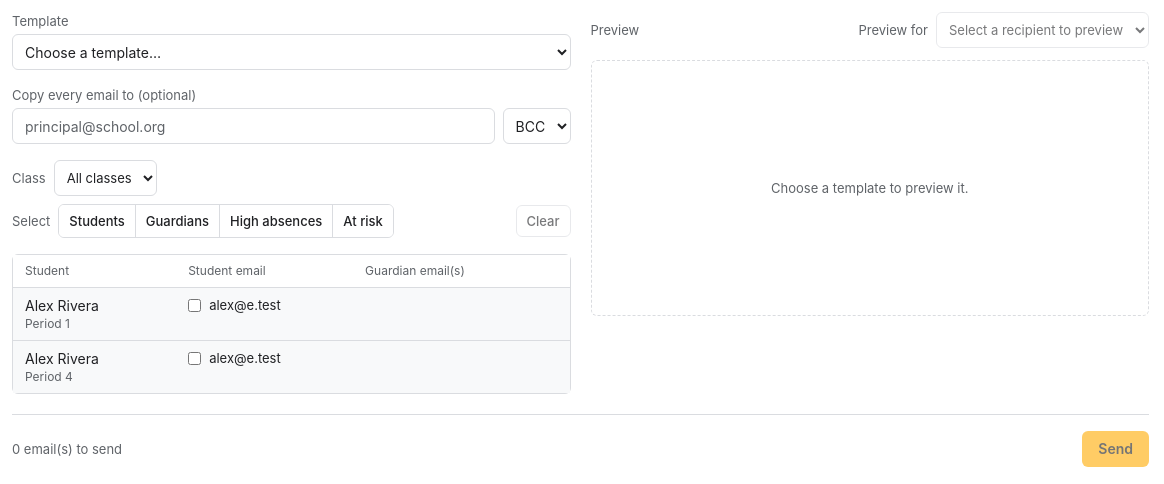
it: ComposeView › At risk flags only the course the student is at risk in
Expected: the checkbox named "Student email for Alex Rivera in Period 4" is shown, [188,352,201,364]
Click the button "At risk" at (363, 221), box [333,205,393,237]
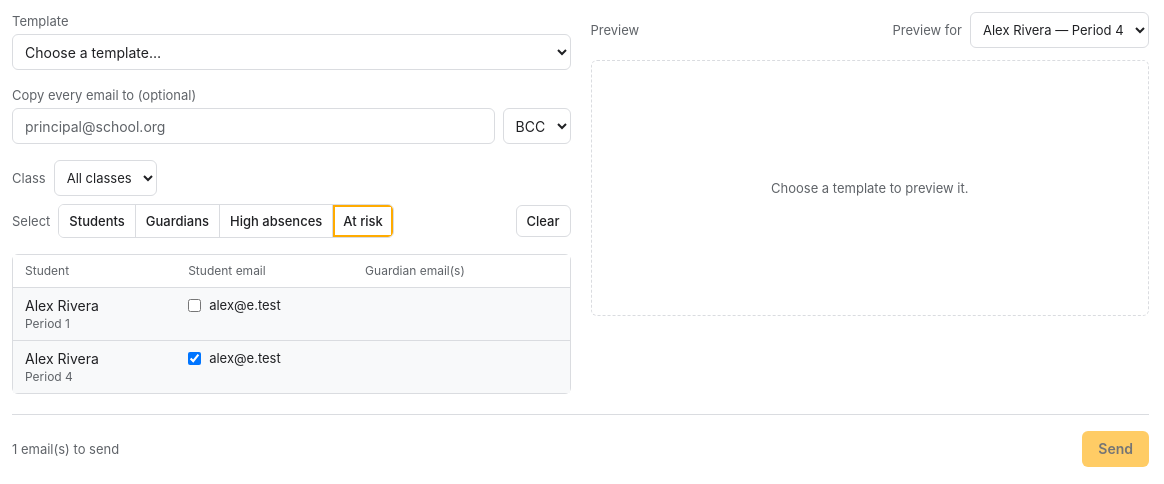
Expected: the checkbox named "Student email for Alex Rivera in Period 1" is not checked, [188,298,201,312]
Expected: the checkbox named "Student email for Alex Rivera in Period 4" is checked, [188,352,201,364]
